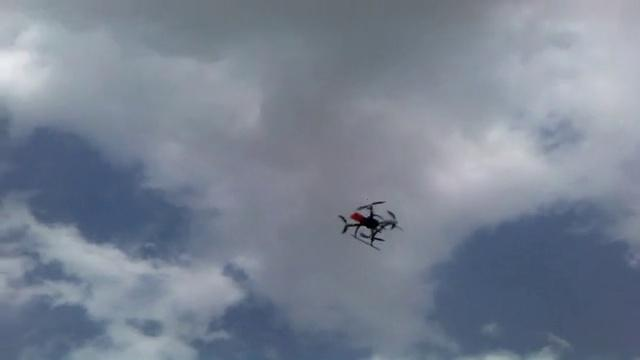drone: (335, 195, 404, 251)
